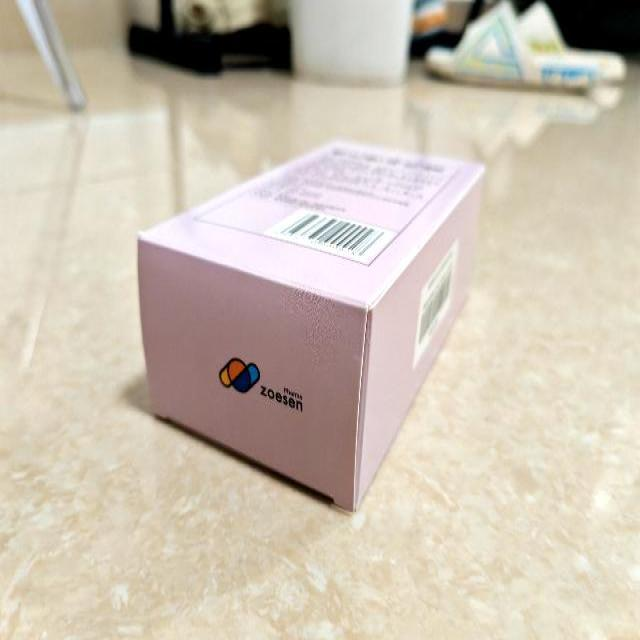box: (136, 140, 486, 510)
